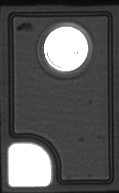defect: (15, 20, 34, 32), (95, 133, 105, 142), (77, 133, 85, 144), (86, 98, 94, 106), (72, 49, 81, 56)
